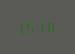five: (27, 20, 35, 34)
one: (18, 20, 26, 34)
seven: (36, 20, 44, 33)
zero: (45, 19, 53, 33)
